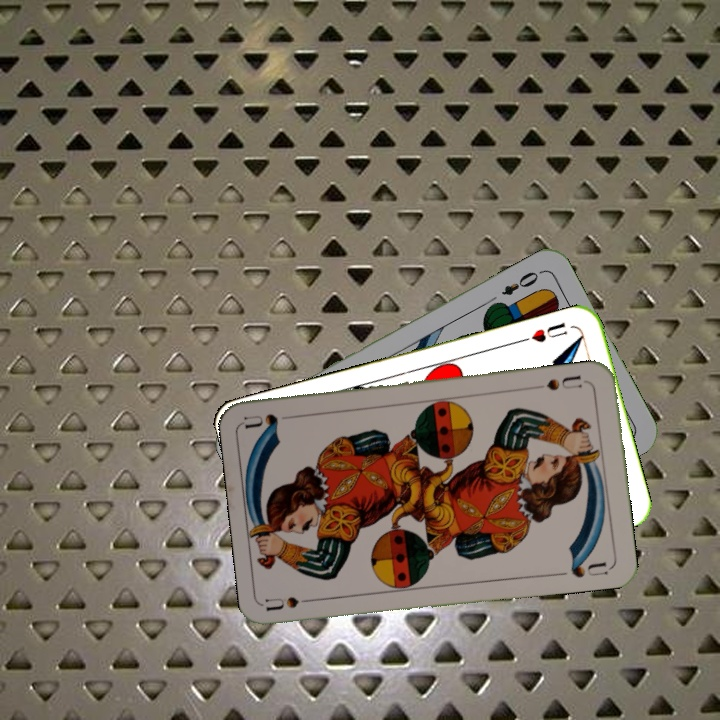EO: (497, 266, 545, 298)
HU: (527, 318, 570, 345)
SU: (532, 371, 591, 393), (263, 592, 323, 613)
